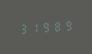eight: (51, 19, 61, 32)
nine: (62, 18, 72, 32), (40, 20, 50, 33)
one: (29, 21, 39, 34)
three: (18, 21, 28, 35)
